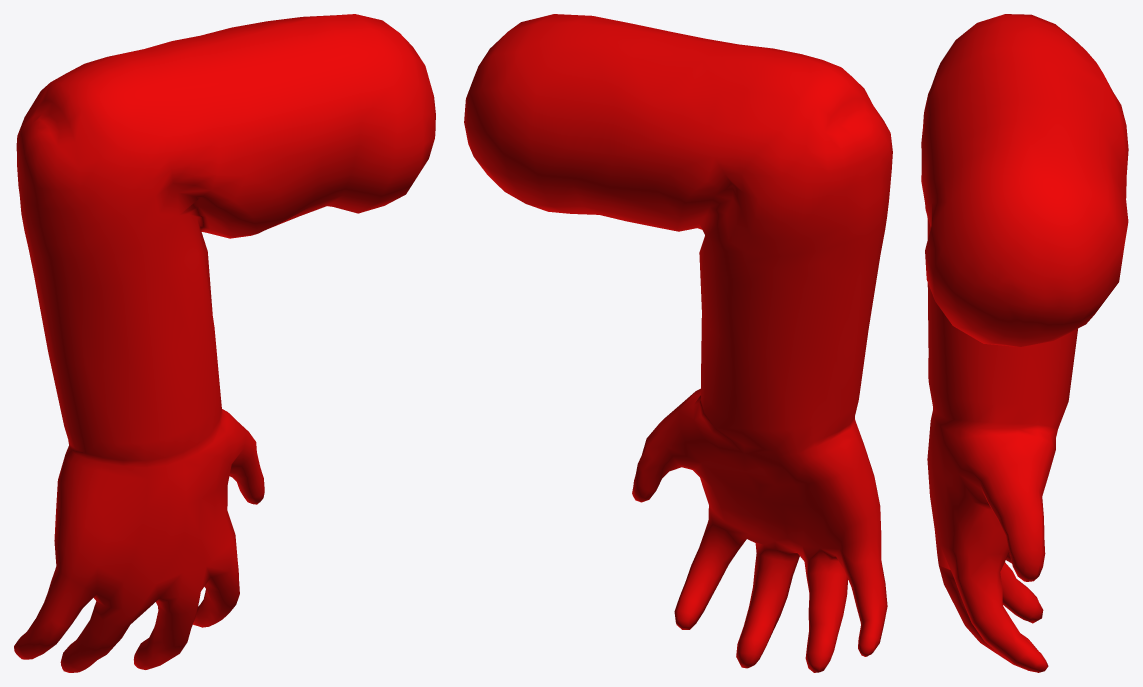
Rendered from InfantArm_InnerCage.fbx.
3 views of the same model, side by side, from view 1: azimuth 30°, elevation 25°; view 2: azimuth 150°, elevation 25°; view 3: azimuth 270°, elevation 25° (orthographic). The views are drawn at different scales.
Visible parts, largest first — view 1: InfantArm_InnerCage; view 2: InfantArm_InnerCage; view 3: InfantArm_InnerCage.
Boxes of the visible parts, x1,y1,x2,y2 form: InfantArm_InnerCage: (14,14,435,672); InfantArm_InnerCage: (464,14,892,672); InfantArm_InnerCage: (921,14,1128,672).
Size of the model in its own units: 13.32 by 19.43 by 5.83.
